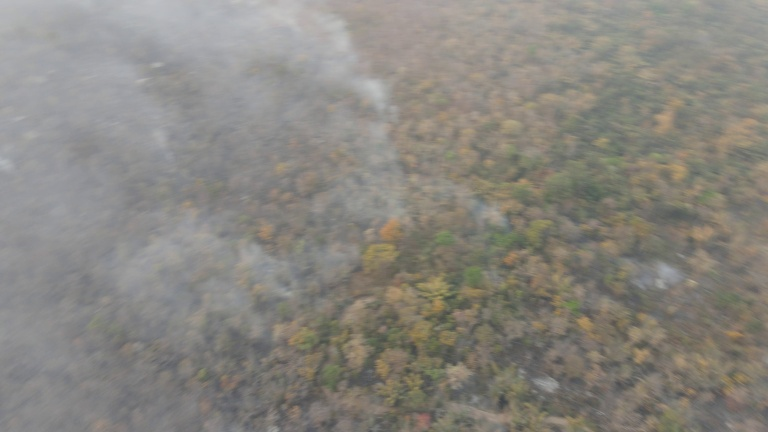smoke: (1, 1, 408, 430), (426, 176, 517, 238), (607, 242, 682, 292)
